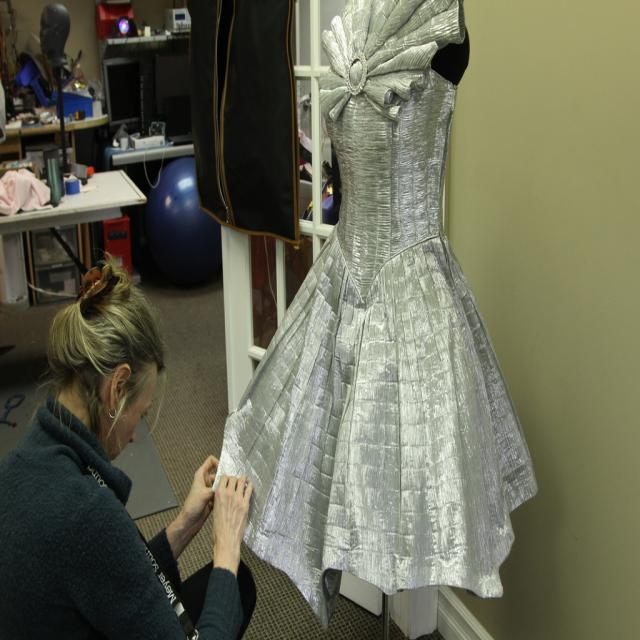desk: (0, 168, 127, 316)
person: (209, 0, 536, 632), (1, 255, 252, 634)
